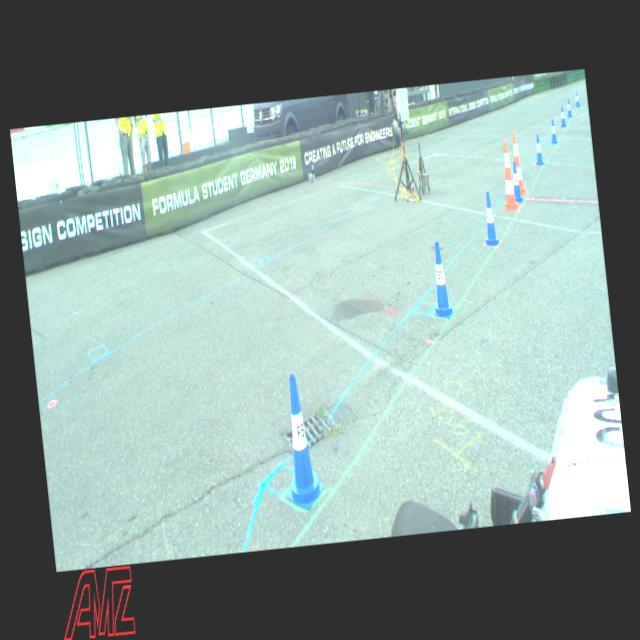blue_cone: (274, 371, 327, 512), (425, 239, 455, 319), (479, 190, 500, 247), (511, 160, 524, 203), (533, 133, 544, 165), (548, 118, 558, 144), (558, 105, 566, 127), (565, 99, 572, 118), (574, 91, 580, 107)
large_orange_cone: (496, 139, 520, 212), (511, 130, 526, 194)
